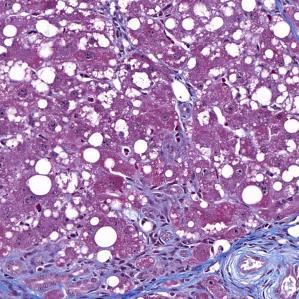fibrosis: (144, 232, 287, 299), (0, 248, 105, 299)
